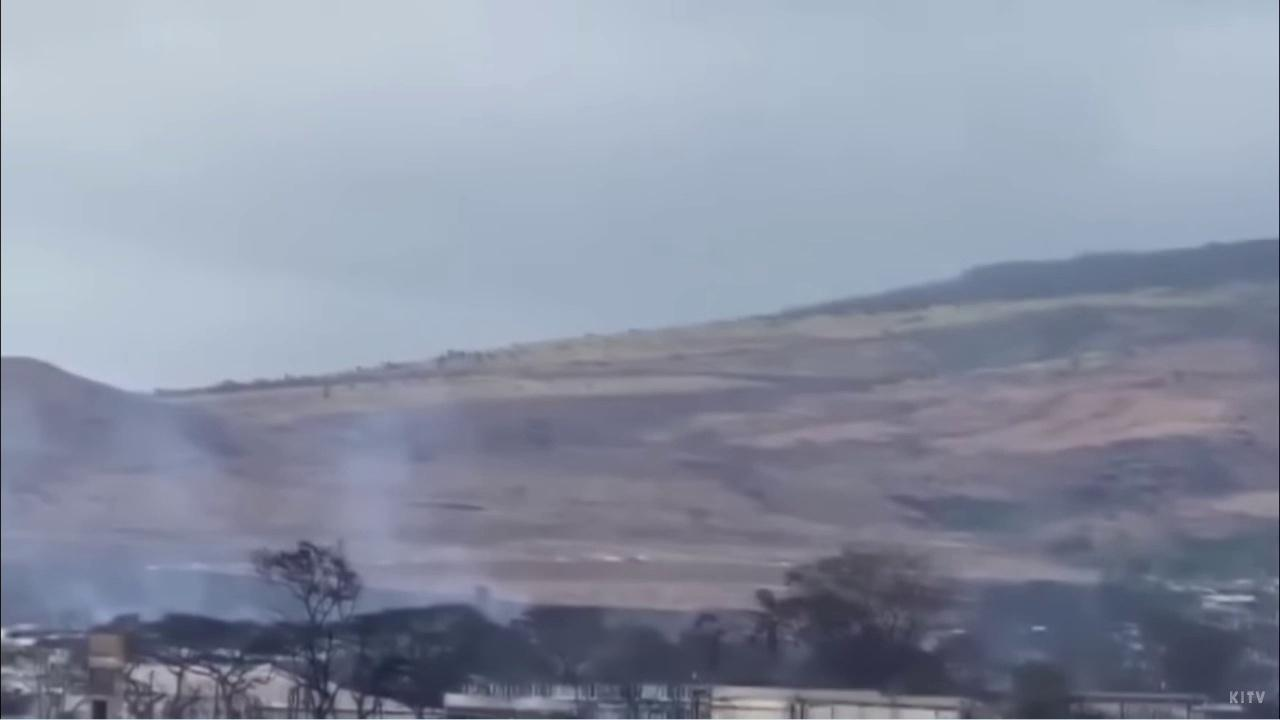smoke: (0, 351, 533, 631)
